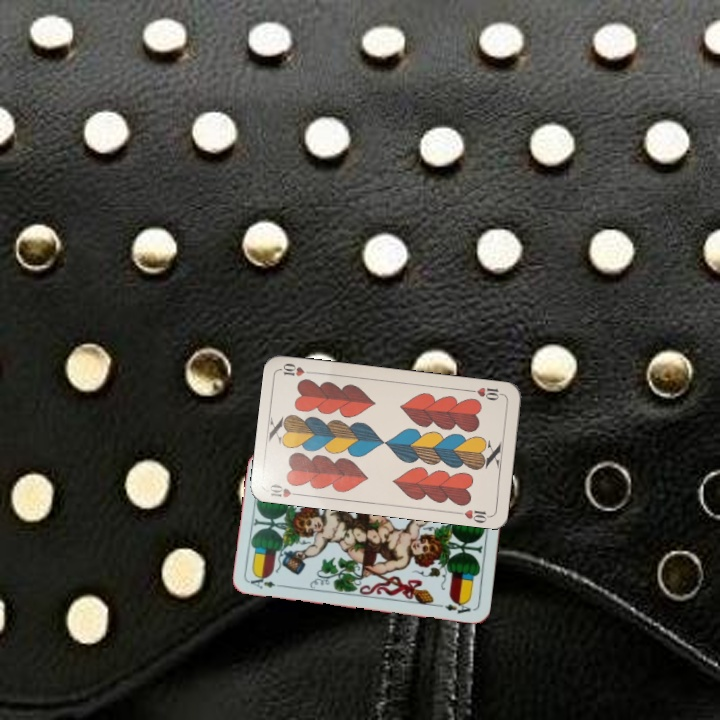EA: (246, 571, 287, 591)
H10: (465, 383, 506, 403), (265, 480, 304, 500)
